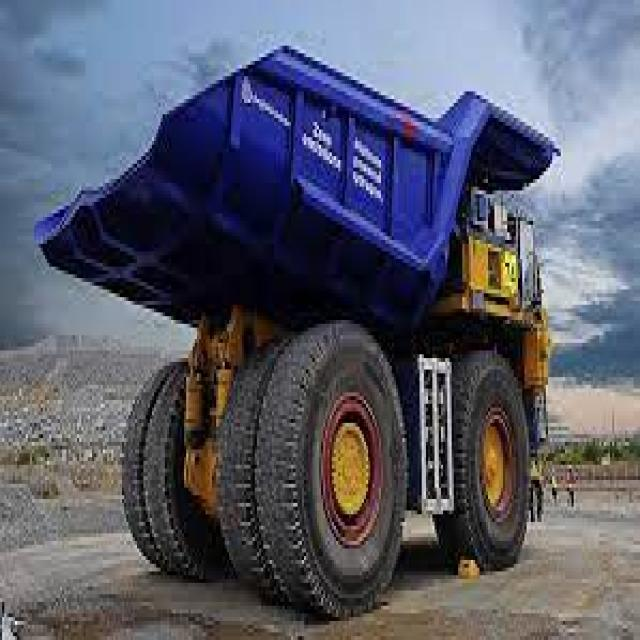dump_truck: (41, 27, 563, 583)
